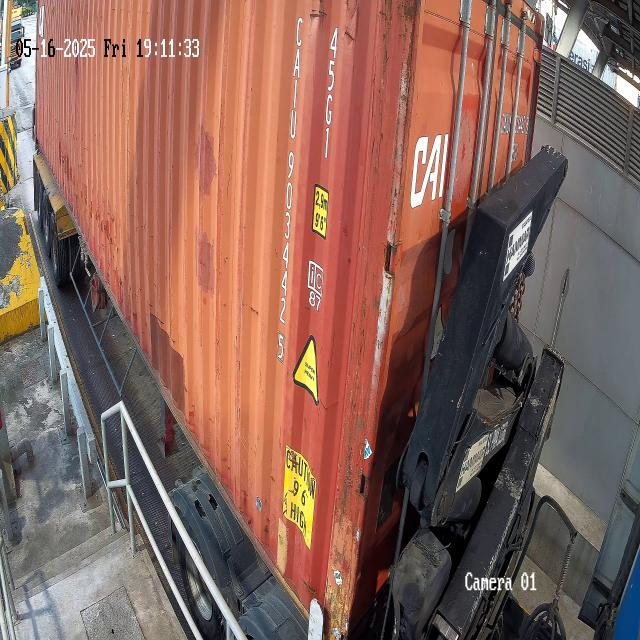ISO: (314, 15, 344, 165)
container_number: (269, 5, 311, 362)
